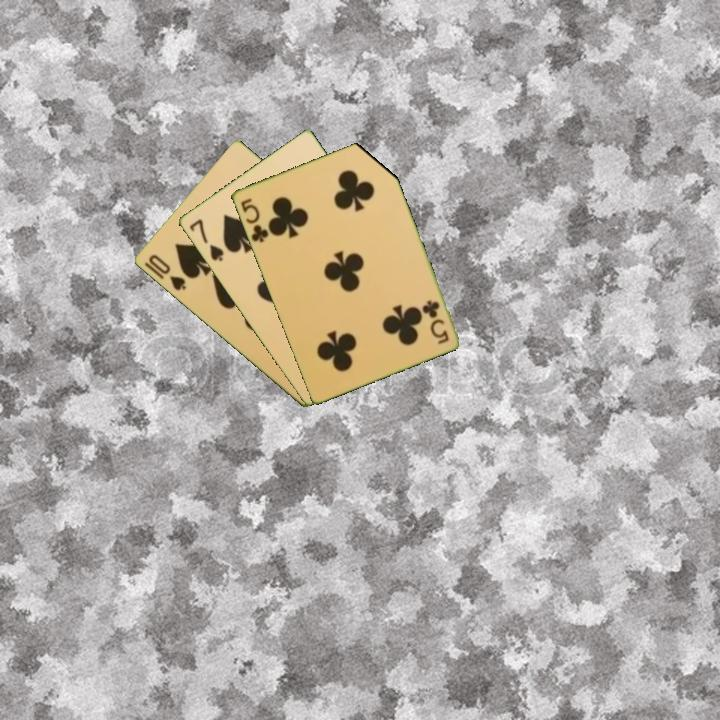10s: (144, 251, 189, 294)
5c: (237, 194, 271, 245), (419, 296, 451, 347)
7s: (185, 215, 226, 264)
